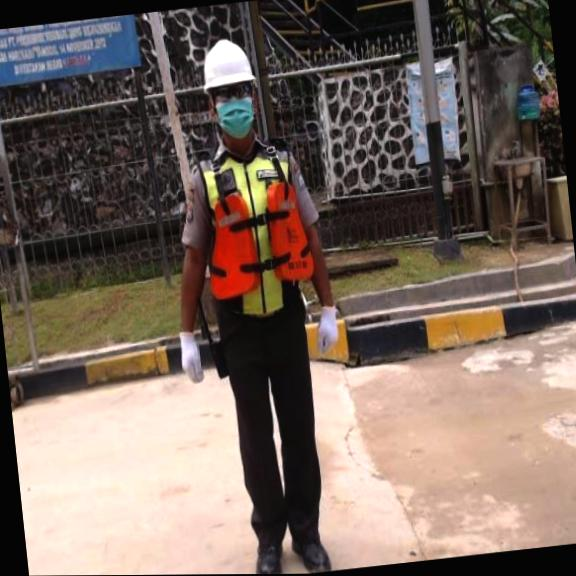safety_vest: (199, 177, 319, 301)
